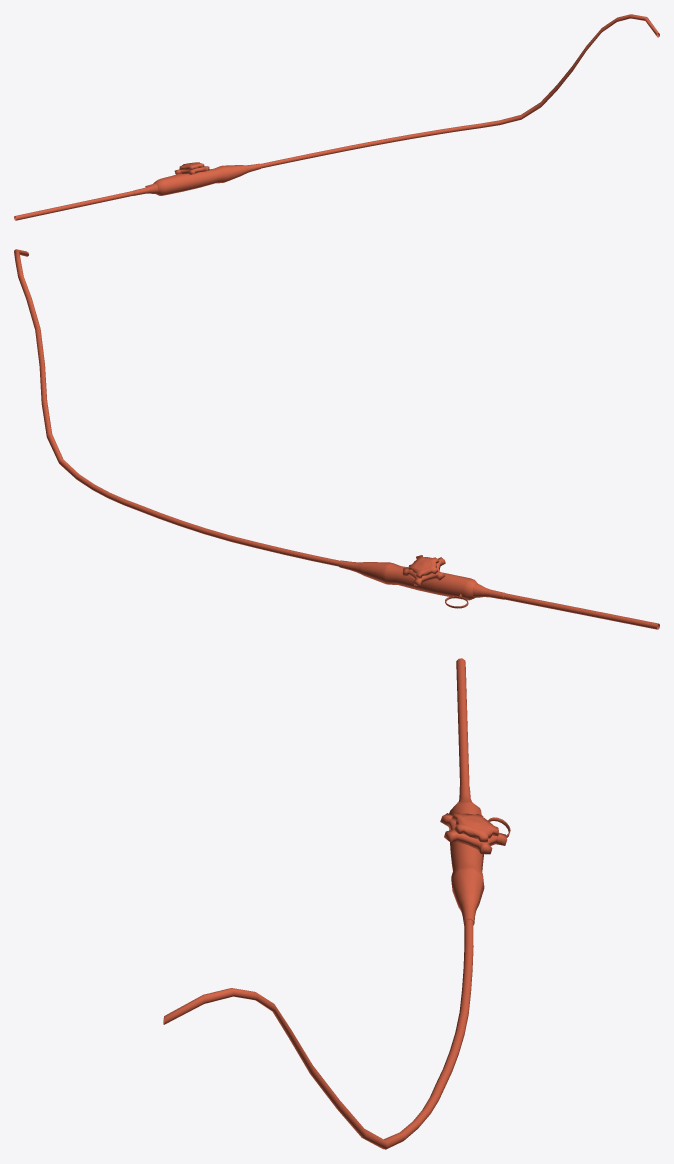
File: TeE probe_Low_Curved_V5.fbx
3 renders of one model, top to bottom at view 1: azimuth 30°, elevation 25°; view 2: azimuth 150°, elevation 25°; view 3: azimuth 270°, elevation 25°, orthographic. The views are drawn at different scales.
Parts seen in each view (by area): view 1: TeE Probe; view 2: TeE Probe; view 3: TeE Probe.
Part boxes in pixels (x1,y1,x2,y2): TeE Probe: (14,14,659,220); TeE Probe: (14,249,659,629); TeE Probe: (163,658,510,1149).
Size of the model in its own units: 324 by 68.29 by 85.41.
